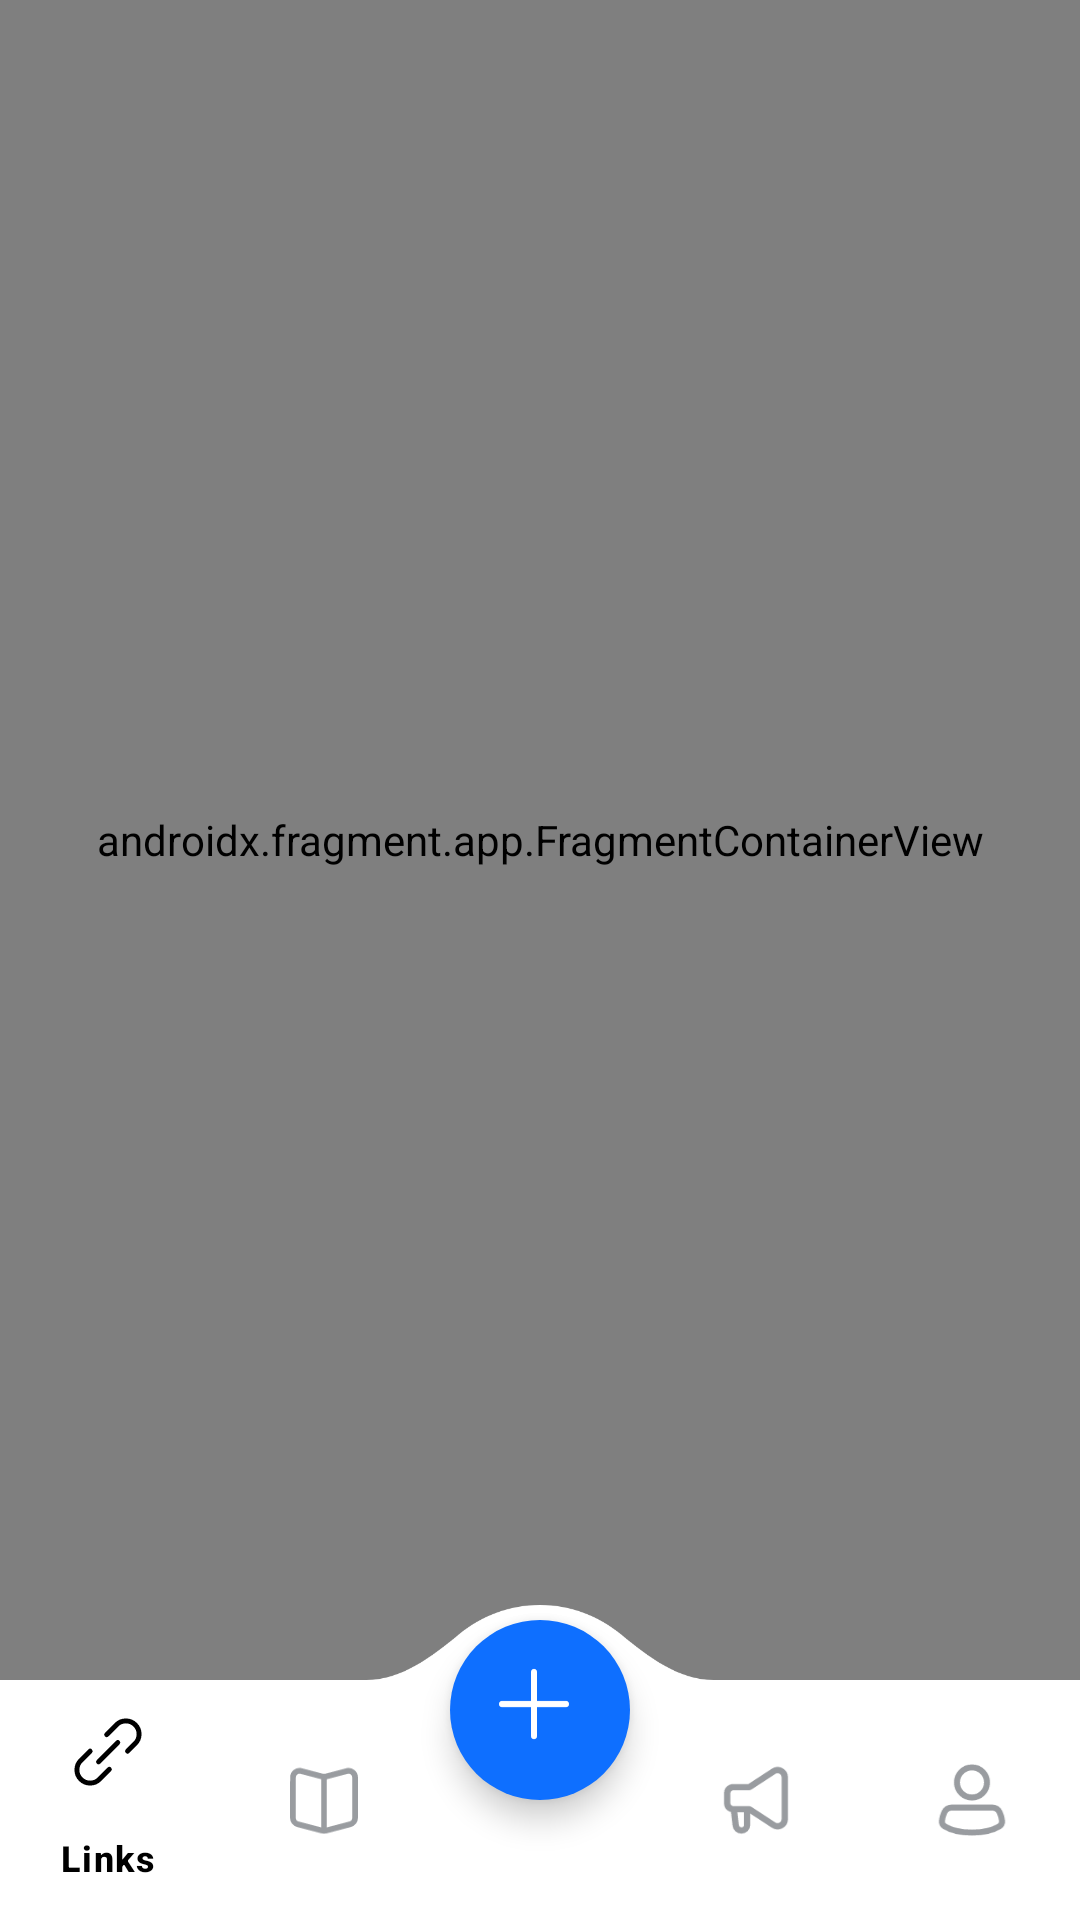

Where to tap for icons on this 1080px×1920px app screen, as (x=x, y=y):
plus: (x=540, y=1710)
